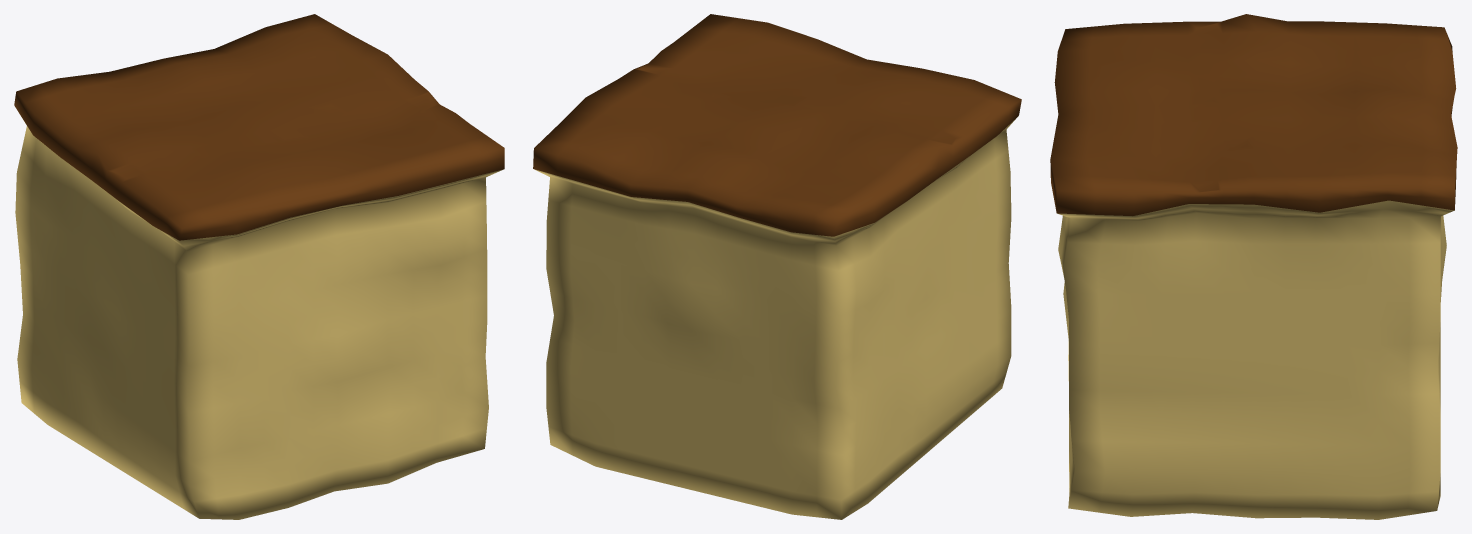
Rendered from BreadSquare.fbx.
The picture shows the model from 3 angles, left to right: view 1: azimuth 30°, elevation 25°; view 2: azimuth 150°, elevation 25°; view 3: azimuth 270°, elevation 25°; orthographic projection. The views are drawn at different scales.
Visible parts, largest first — view 1: Cube; view 2: Cube; view 3: Cube.
Boxes of the visible parts, left/top/right/bottom form: Cube: left=14, top=14, right=504, bottom=519; Cube: left=533, top=14, right=1021, bottom=519; Cube: left=1050, top=14, right=1457, bottom=519.
Bounding box in the file's own units: 221 × 210 × 219.
